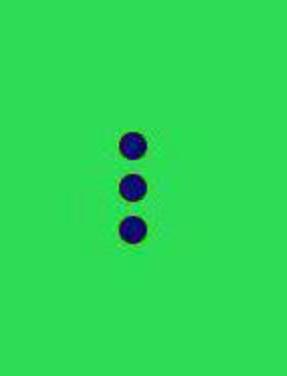ImgButton: (1, 1, 286, 375)
